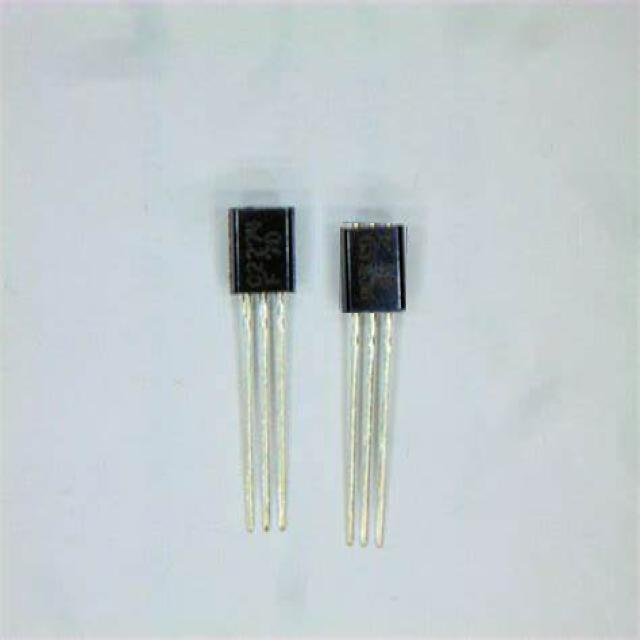Transistor: (217, 185, 312, 542), (325, 202, 412, 557)
